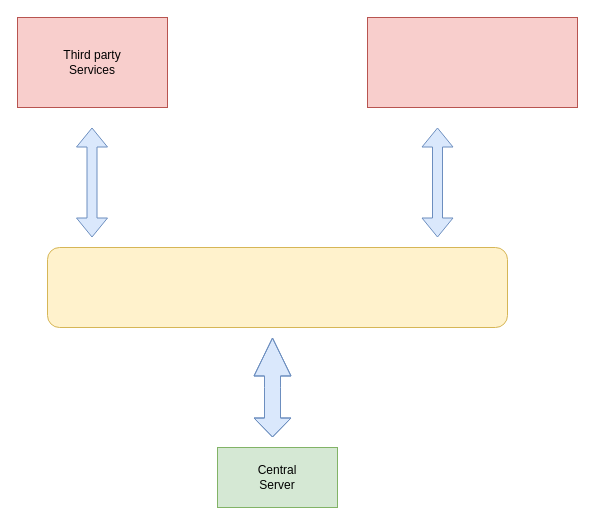
Some shapes in this 595 by 525 pixel diagram are drawn without their labels. Here are the shapes that lost their labels. From the top down, the centre of each, then its label:
At [472,62]: "Organization speific Interfaces".
At [277,287]: "Broker".
